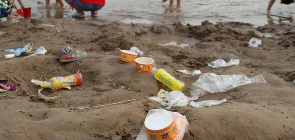garbage: (142, 80, 261, 102), (132, 104, 196, 136), (147, 63, 192, 91), (205, 50, 251, 71), (2, 45, 52, 64), (28, 77, 84, 91), (123, 53, 160, 72), (245, 28, 272, 54), (58, 46, 92, 65), (1, 78, 21, 100), (113, 47, 139, 63)
